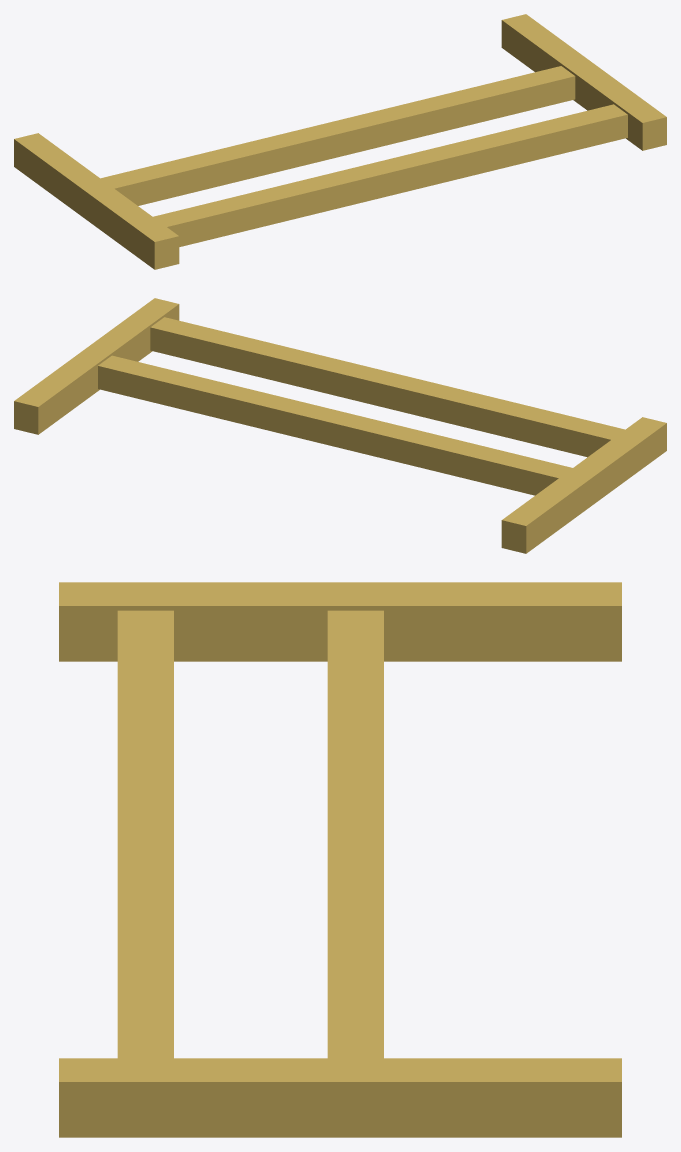
The model's file is safety_barrier.glb.
3 views of the same model, one above another, from view 1: azimuth 30°, elevation 25°; view 2: azimuth 150°, elevation 25°; view 3: azimuth 270°, elevation 25° (orthographic). The views are drawn at different scales.
Parts seen in each view (by area): view 1: world; view 2: world; view 3: world.
Part boxes in pixels (<box>): world: <box>14,14,666,269</box>; world: <box>14,298,666,553</box>; world: <box>59,582,621,1137</box>.
Bounding box in the file's own units: 2.31 × 0.12 × 1.1.
